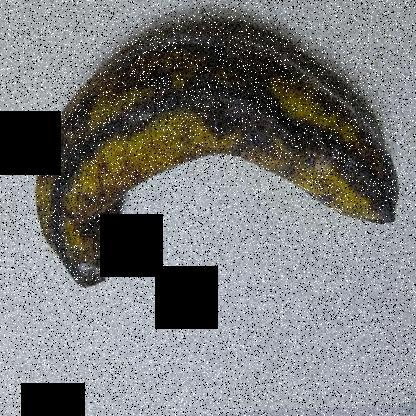overripe: (21, 14, 415, 301)
rotten: (62, 242, 126, 302)
